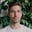face: (7, 2, 23, 23)
